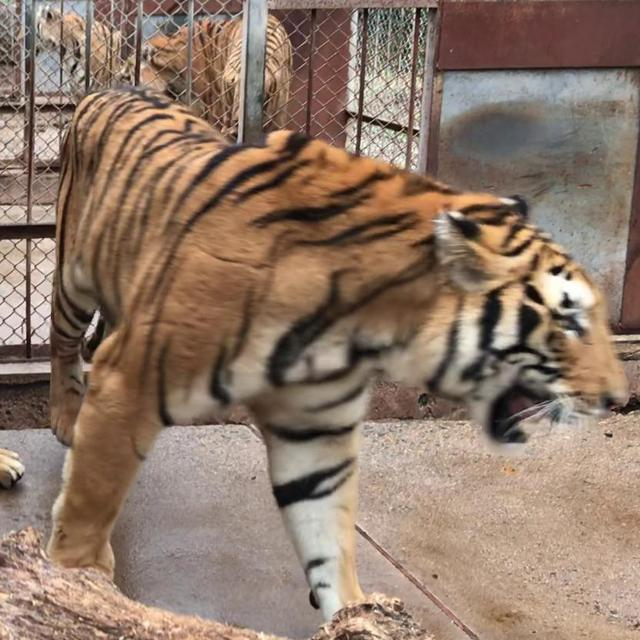tiger: (43, 82, 631, 626), (131, 11, 294, 137), (35, 5, 129, 90), (0, 446, 25, 490)
